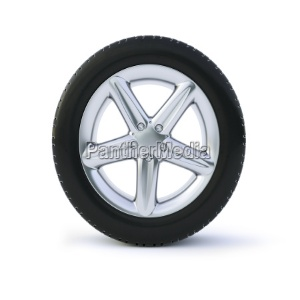tire: (50, 34, 251, 251)
